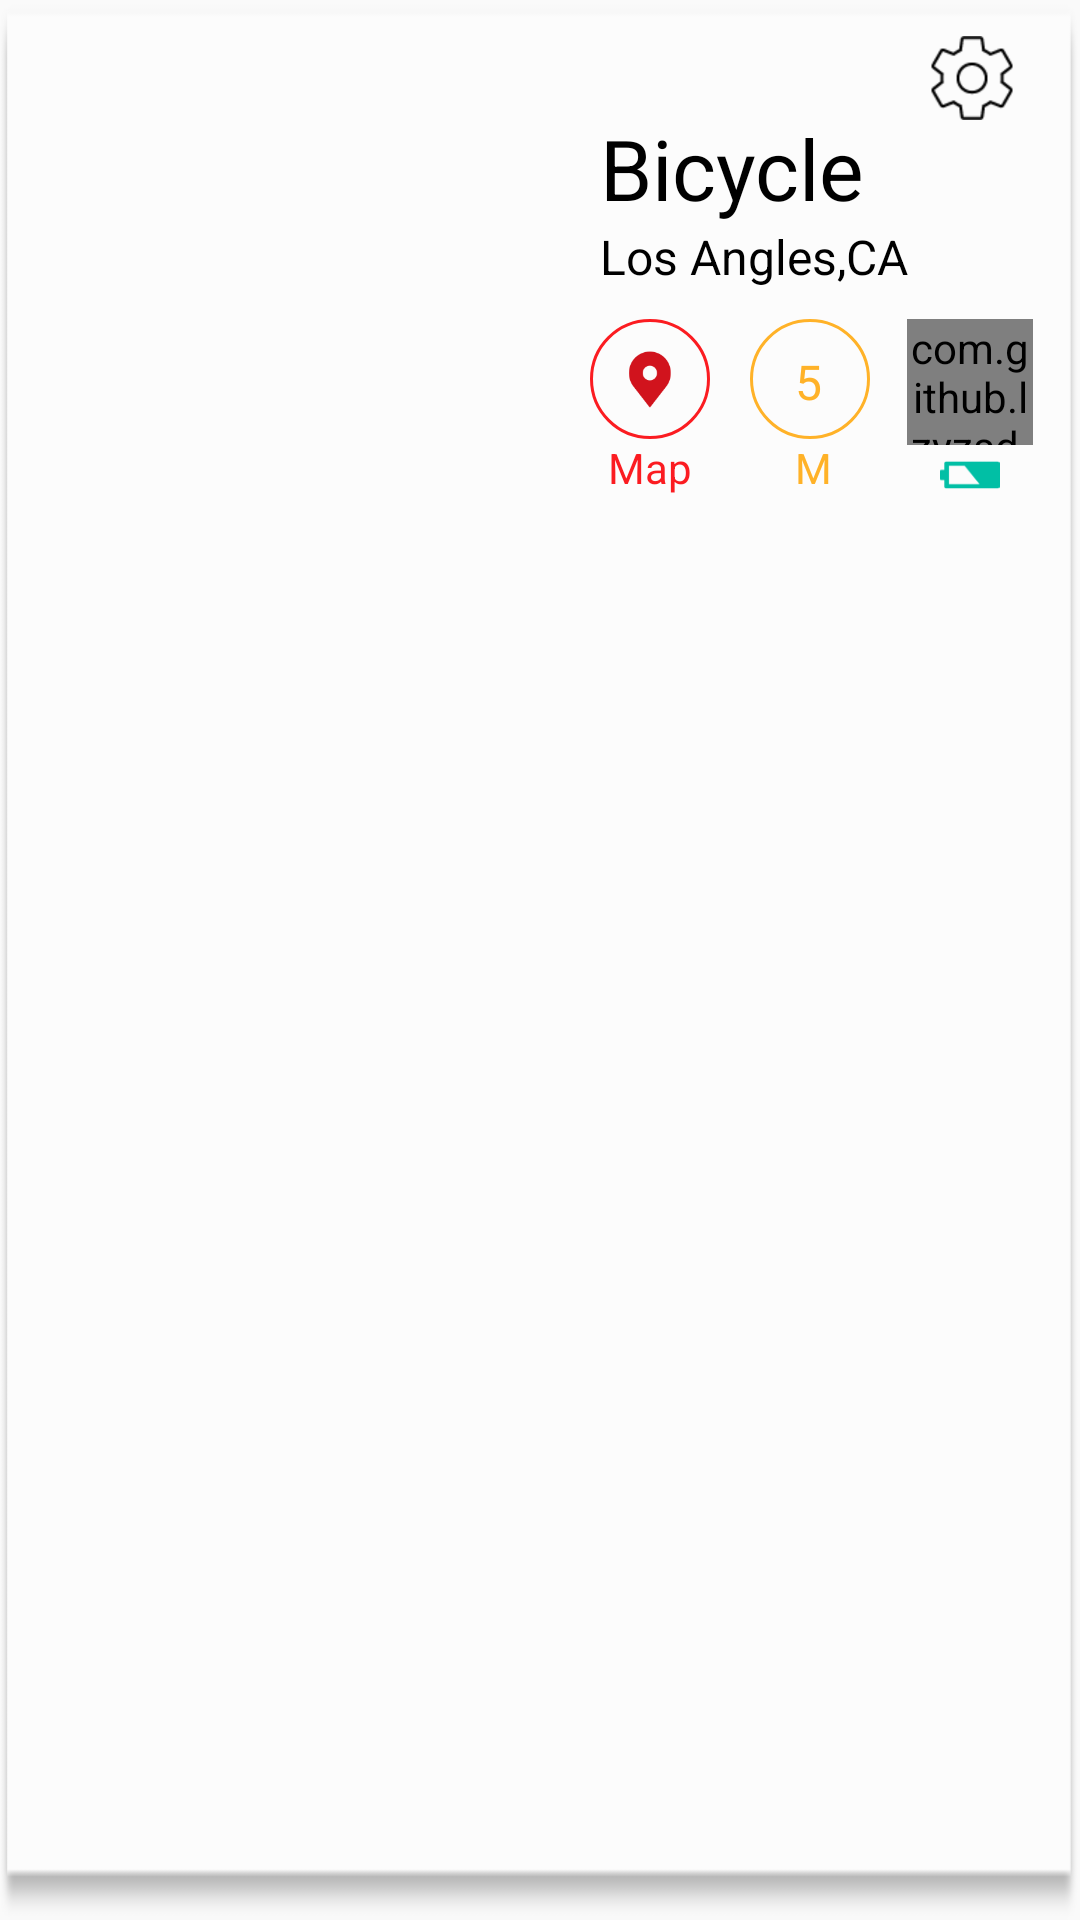

Point at icon controls on the screen. Image size 1080px x 1920px, points as [x,y].
battery: [970,475]
loc pin: [650,379]
settings: [972,78]
